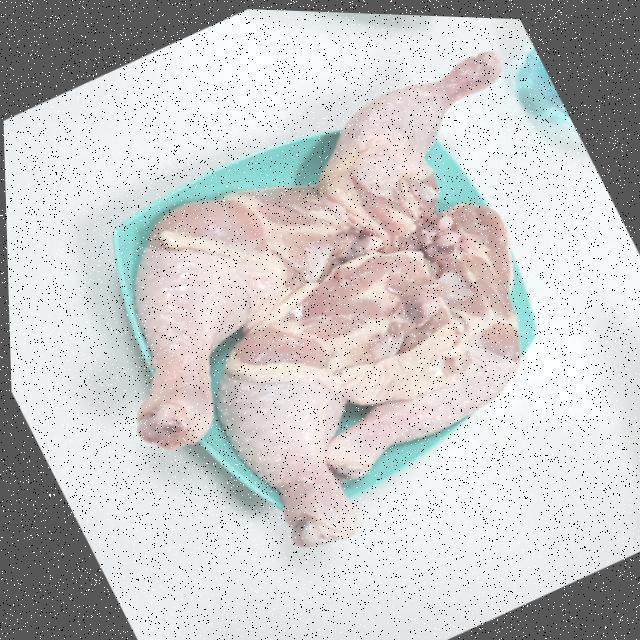quater: (344, 199, 530, 482), (137, 188, 339, 446), (225, 326, 359, 550), (324, 51, 496, 220)
